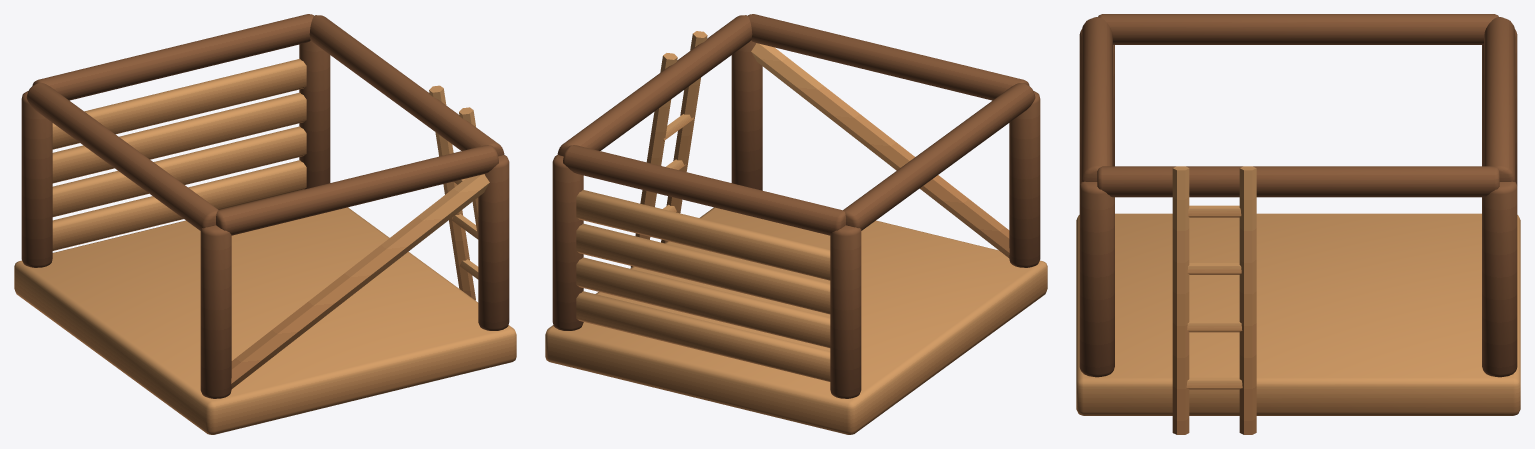
Rendered from stageB.glb.
3 renders of one model, left to right at view 1: azimuth 30°, elevation 25°; view 2: azimuth 150°, elevation 25°; view 3: azimuth 270°, elevation 25°, orthographic. The views are drawn at different scales.
Parts seen in each view (by area): view 1: stageB; view 2: stageB; view 3: stageB.
Boxes of the visible parts, x1,y1,x2,y2 form: stageB: (14,14,516,434); stageB: (545,14,1047,434); stageB: (1076,14,1520,434).
Size of the model in its own units: 1.06 by 0.6553 by 1.06.
Materials: 1 (1 with a texture image).
